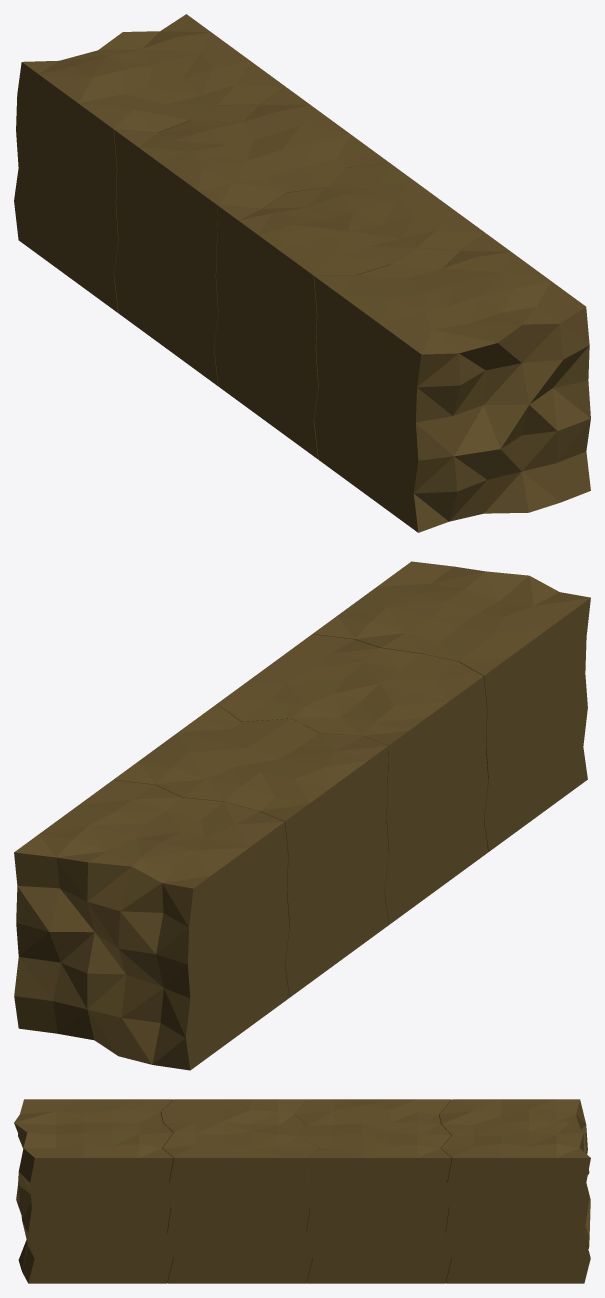
File: SM_path_3_alt_DE.fbx
The picture shows the model from 3 angles, top to bottom: view 1: azimuth 30°, elevation 25°; view 2: azimuth 150°, elevation 25°; view 3: azimuth 270°, elevation 25°; orthographic projection. The views are drawn at different scales.
Visible parts, largest first — view 1: SM_path3_1_alt_DE, SM_path3_rightmid_alt_DE, SM_path3_leftmid_alt_DE, SM_path3_2_alt_DE; view 2: SM_path3_2_alt_DE, SM_path3_1_alt_DE, SM_path3_leftmid_alt_DE, SM_path3_rightmid_alt_DE; view 3: SM_path3_1_alt_DE, SM_path3_2_alt_DE, SM_path3_rightmid_alt_DE, SM_path3_leftmid_alt_DE.
Boxes of the visible parts, x1,y1,x2,y2 form: SM_path3_1_alt_DE: (314, 234, 590, 532); SM_path3_rightmid_alt_DE: (114, 87, 390, 386); SM_path3_leftmid_alt_DE: (214, 163, 485, 459); SM_path3_2_alt_DE: (14, 14, 285, 313); SM_path3_2_alt_DE: (14, 780, 289, 1070); SM_path3_1_alt_DE: (312, 561, 590, 851); SM_path3_leftmid_alt_DE: (217, 634, 488, 924); SM_path3_rightmid_alt_DE: (113, 704, 388, 997); SM_path3_1_alt_DE: (14, 1099, 173, 1283); SM_path3_2_alt_DE: (439, 1099, 590, 1283); SM_path3_rightmid_alt_DE: (294, 1099, 451, 1283); SM_path3_leftmid_alt_DE: (161, 1099, 319, 1283).
Size of the model in its own units: 120 by 500 by 122.
